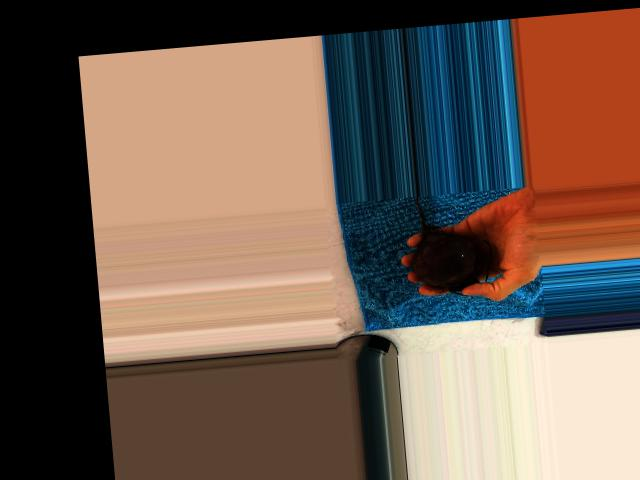beet: (405, 189, 494, 299)
